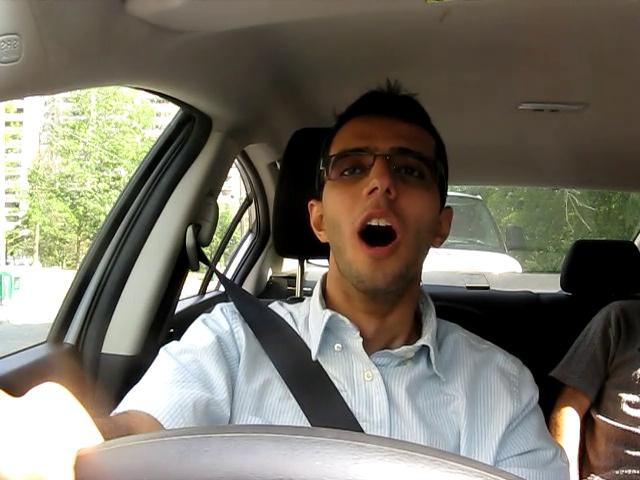close_eyeL: (328, 157, 380, 186)
close_eyeR: (387, 158, 437, 189)
yawn: (337, 211, 416, 259)
